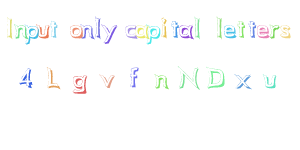4: (18, 66, 34, 89)
D: (205, 65, 225, 90)
I: (3, 14, 19, 39)
L: (44, 66, 60, 89)
N: (176, 63, 201, 90)
a: (178, 23, 194, 40), (135, 23, 149, 39)
c: (124, 23, 137, 39)
e: (256, 23, 269, 39), (224, 24, 237, 39)
f: (126, 64, 140, 89)
g: (72, 74, 88, 96)
i: (159, 16, 169, 38)
l: (213, 14, 224, 39), (93, 15, 102, 39), (193, 14, 201, 39)
n: (153, 72, 170, 90), (80, 22, 95, 41), (13, 23, 28, 39)
o: (68, 23, 84, 40)
p: (24, 23, 40, 45), (147, 25, 161, 45)
r: (269, 23, 280, 39)
s: (280, 22, 291, 39)
t: (169, 19, 180, 39), (236, 18, 246, 38), (247, 18, 257, 38), (49, 19, 59, 38)
u: (35, 23, 50, 40), (262, 73, 277, 89)
v: (98, 72, 115, 88)
x: (234, 72, 252, 90)
y: (101, 22, 118, 45)
